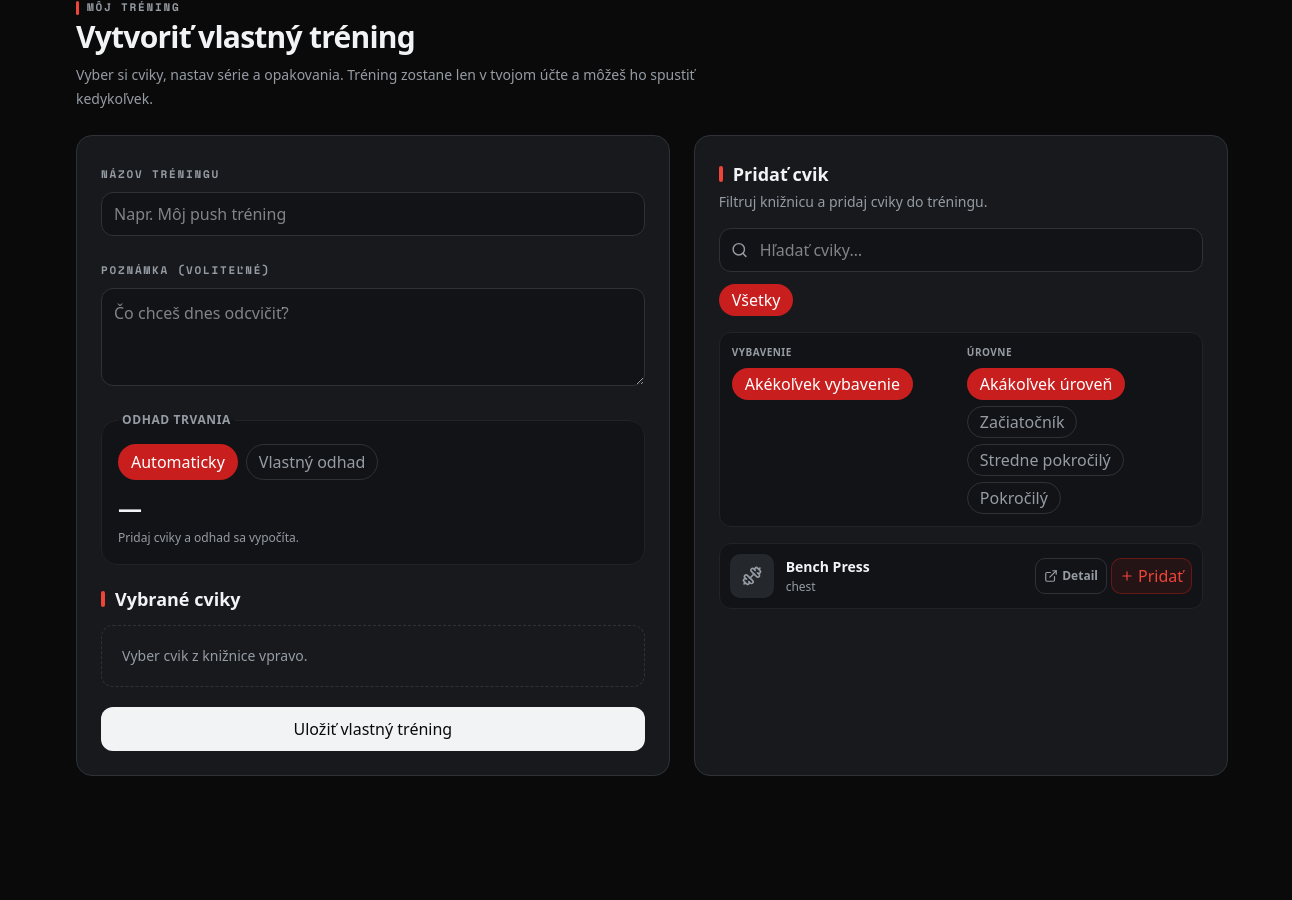
it: CreateWorkout unsaved-changes guard › navigates to the new workout with no unsaved-changes dialog after a successful save
In the field labelled "Názov tréningu": (373, 214) 101,192 -> 645,236, type "Môj tréning"
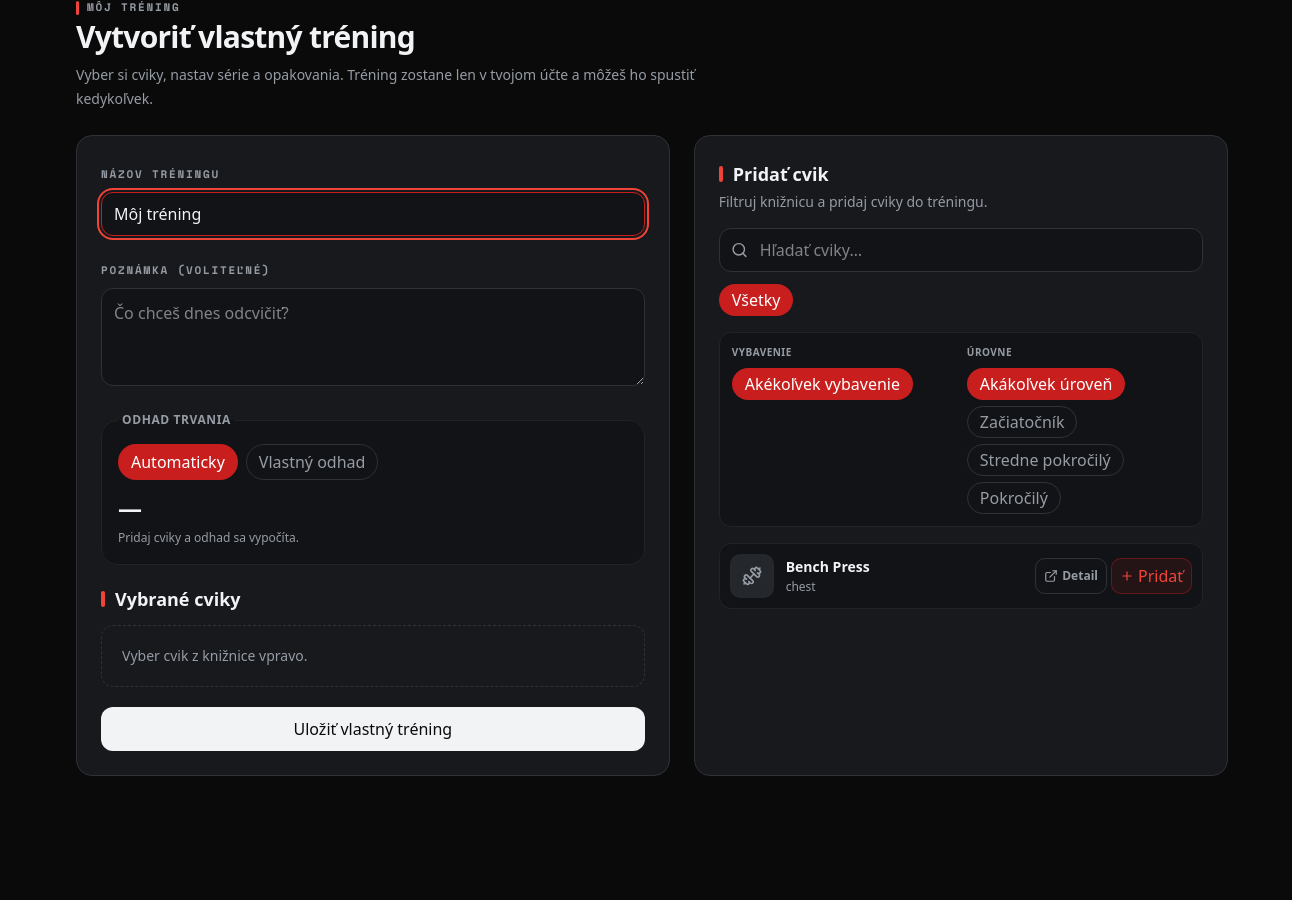
Click the button with aria-label "Pridať Bench Press": (1152, 576) 1111,558 -> 1192,594
(page scrolled)
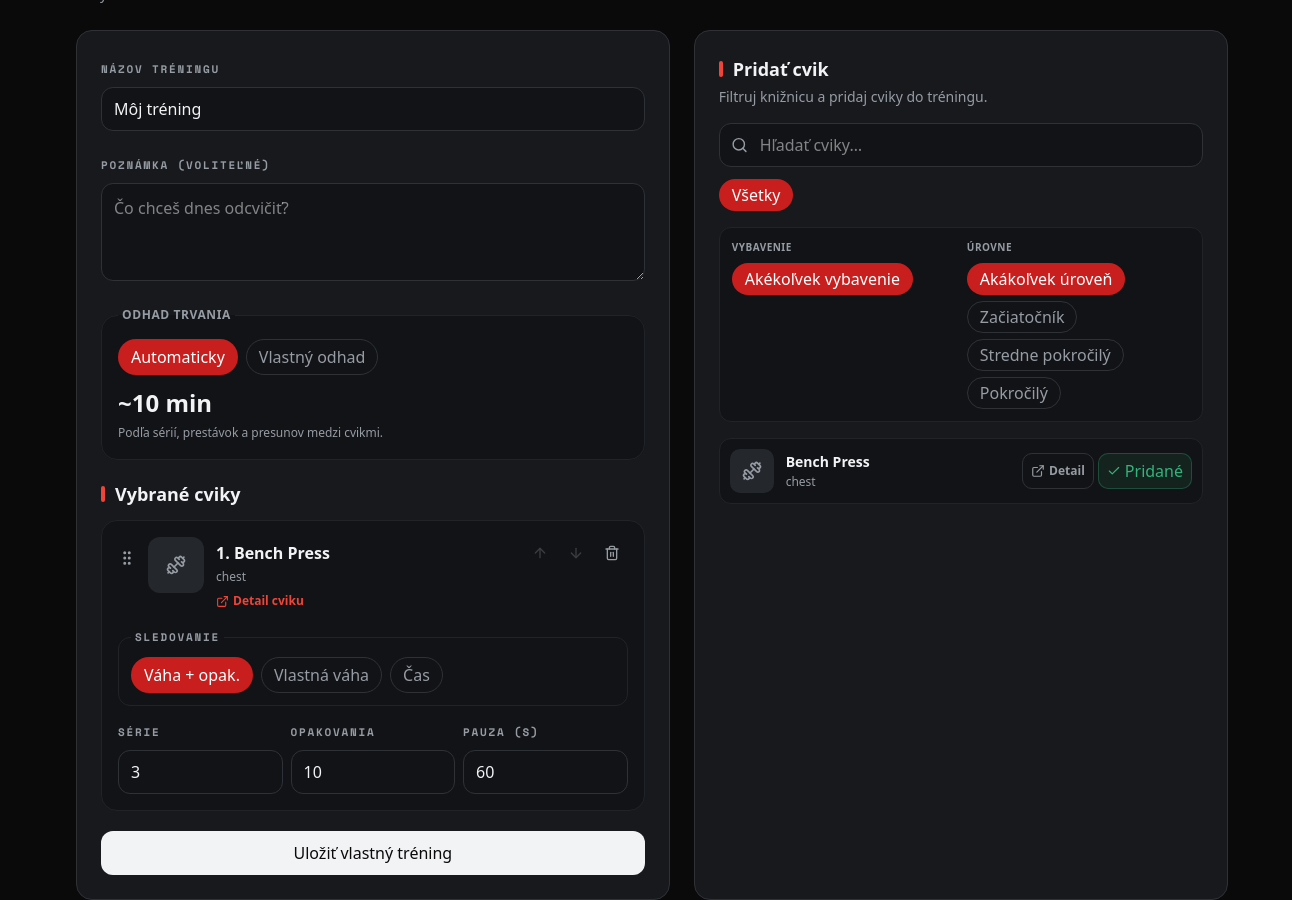
Click the button "Uložiť vlastný tréning": (373, 853) 101,831 -> 645,875
(page scrolled)
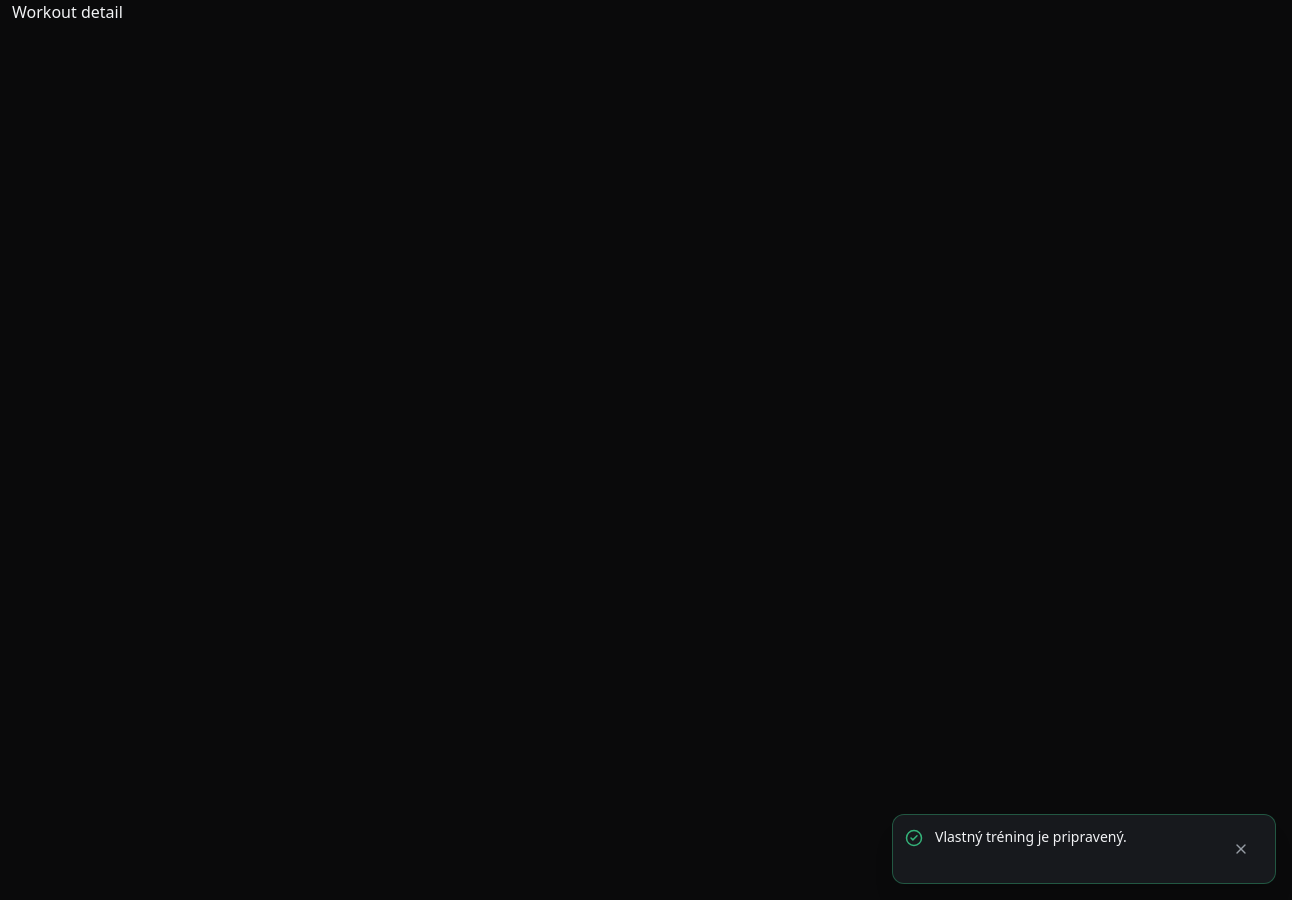
expect the text "Workout detail" is shown: met, box 12,1 -> 123,23
